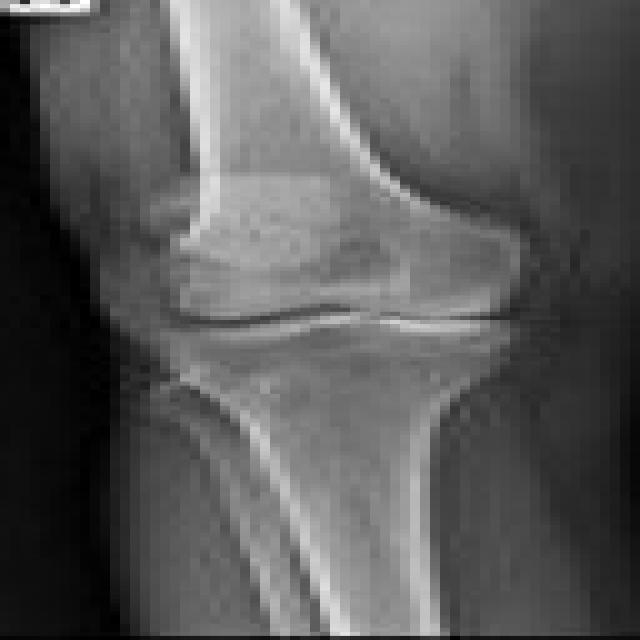Hairline: (128, 260, 570, 366)
